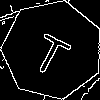T: (27, 24, 77, 79)
